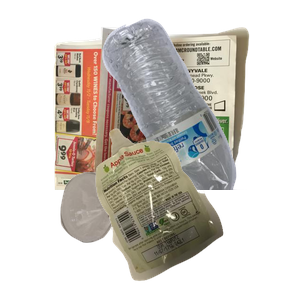glass: (58, 170, 202, 300)
paper: (51, 24, 291, 204)
plastic: (100, 16, 300, 196)
trash: (93, 126, 300, 300)
